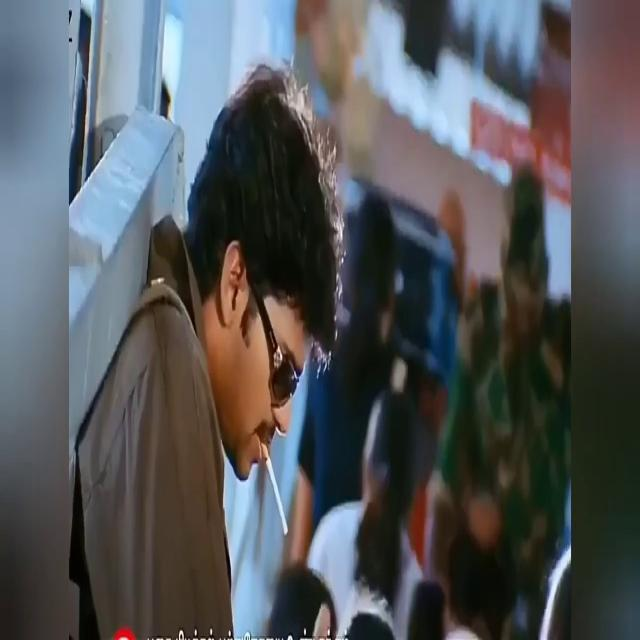smoking: (248, 456, 292, 509)
